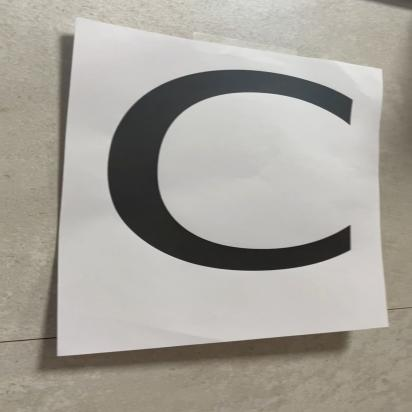seat: (84, 19, 395, 330)
